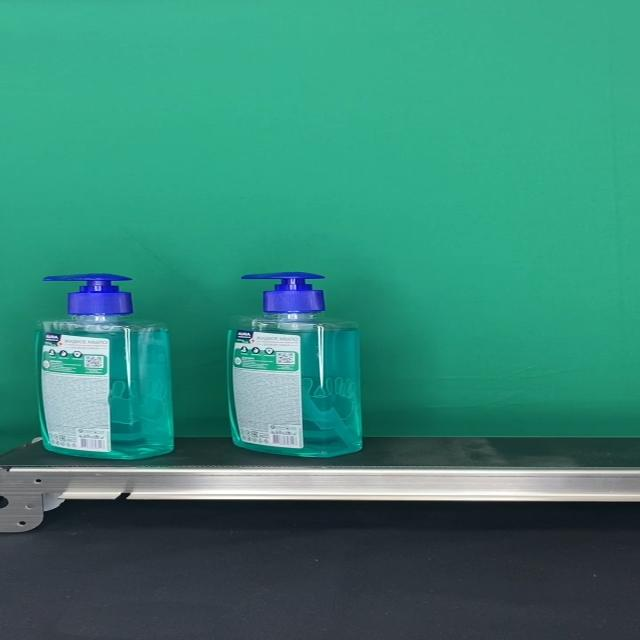Bottle: (35, 273, 174, 459), (226, 273, 364, 457)
Cap: (42, 273, 133, 316), (242, 272, 328, 314)
